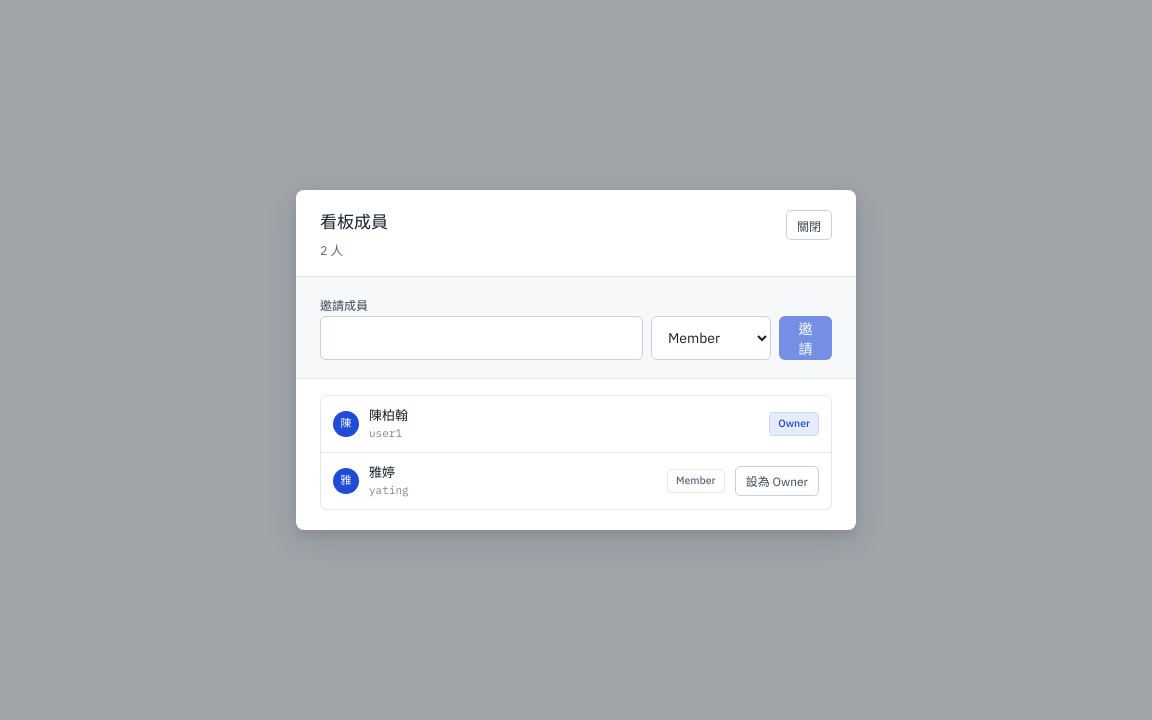
s-member-management › 非 Owner 嘗試變更成員角色時，顯示訊息，清單中該成員的角色顯示不變
This screenshot has width=1152, height=720.
Expected: the text "雅婷" is shown, [369, 464, 395, 481]
Click the button "設為 Owner" at (777, 481), box [735, 466, 819, 496]
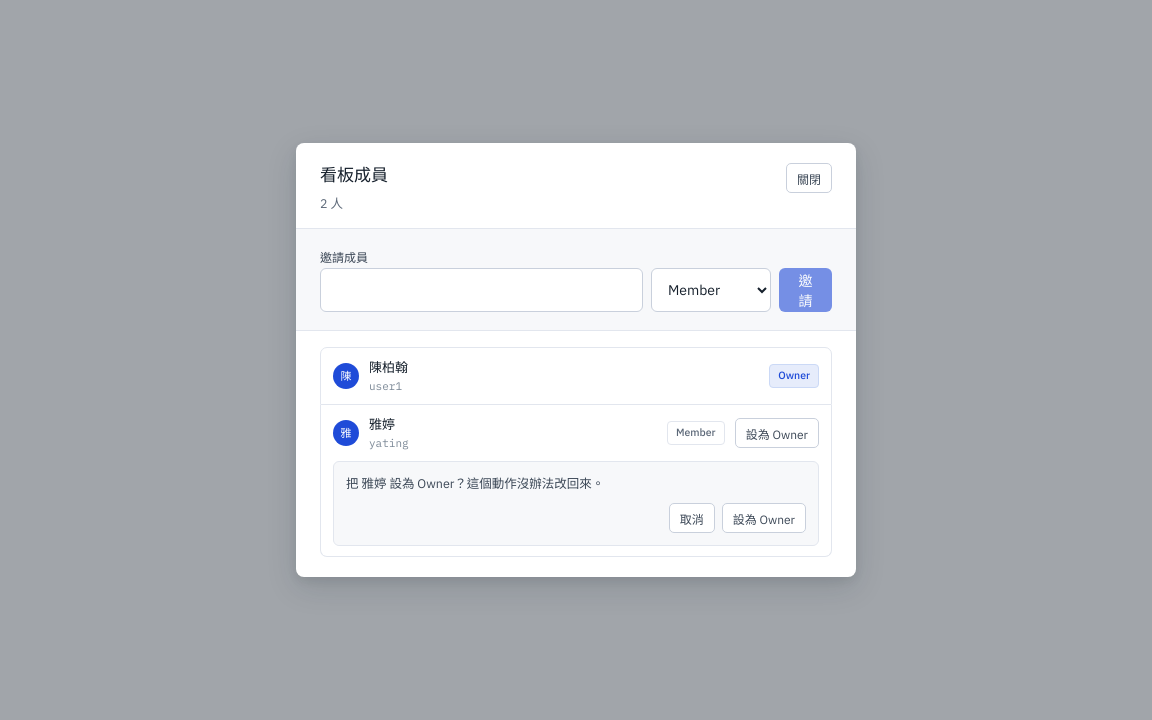
Click the button "設為 Owner" below "設為 Owner？這個動作沒辦法改回來。" at (764, 518), box [722, 503, 806, 533]
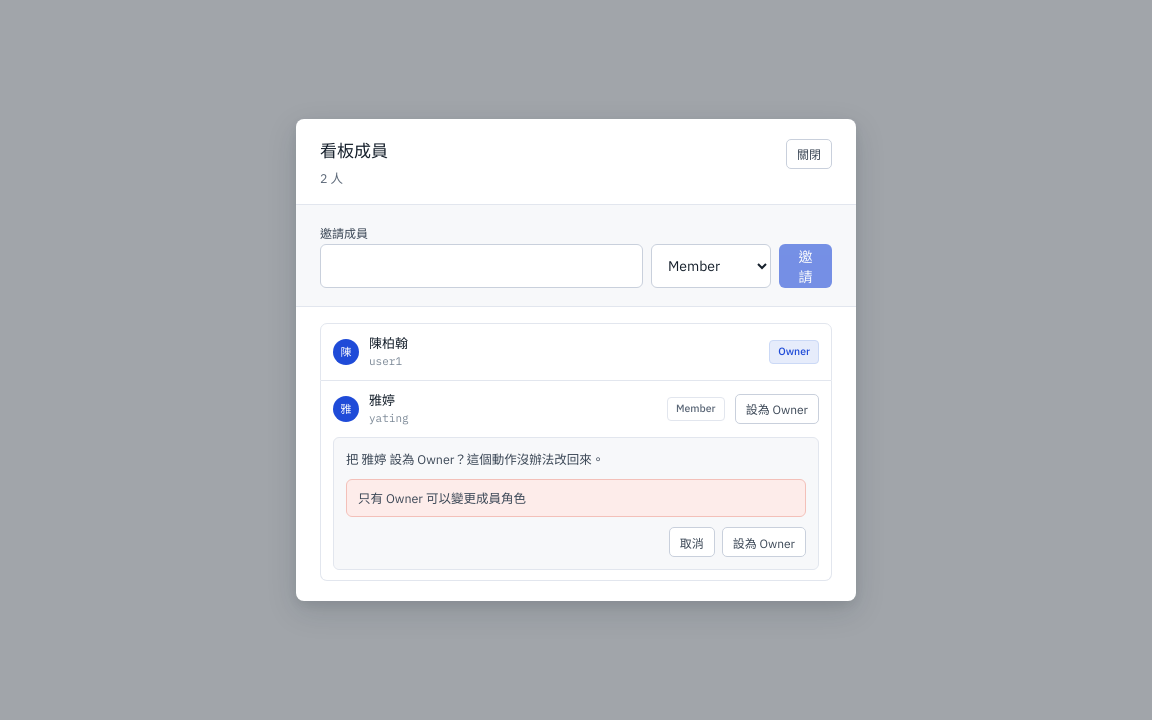
Expected: the text "Member" is shown, [667, 397, 725, 421]
Expected: the text "只有 Owner 可以變更成員角色" is shown, [346, 479, 806, 517]
